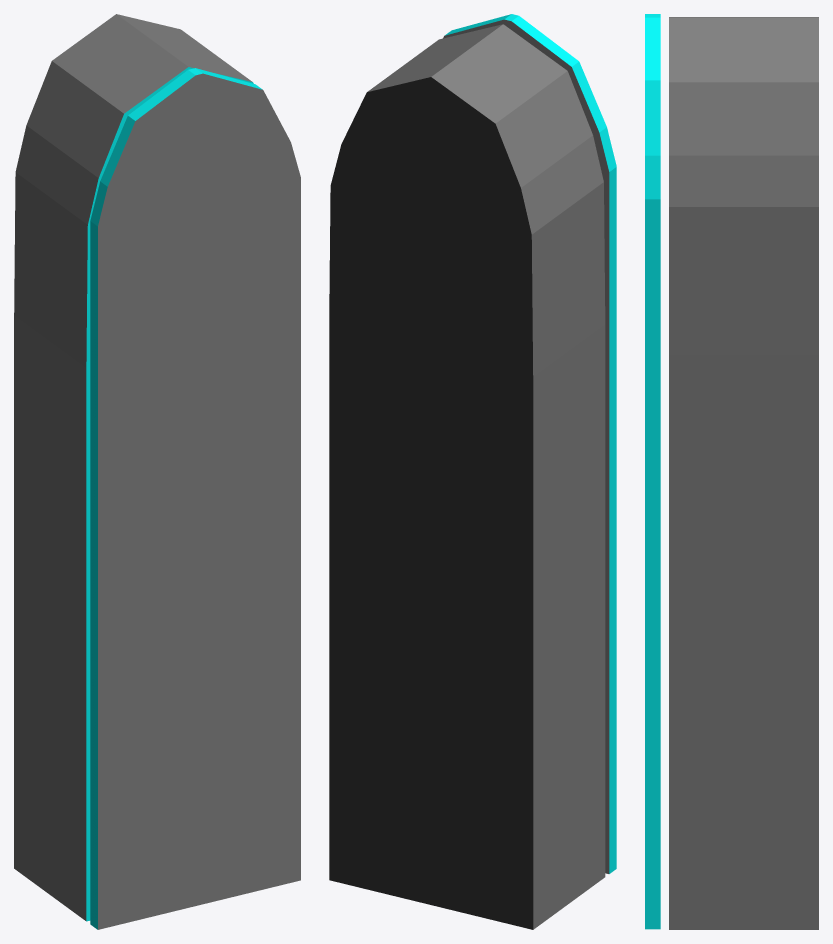
Rendered from taquilla.FBX.
3 views of the same model, side by side, from view 1: azimuth 30°, elevation 25°; view 2: azimuth 150°, elevation 25°; view 3: azimuth 270°, elevation 25° (orthographic). The views are drawn at different scales.
Visible parts, largest first — view 1: Box002, Box001; view 2: Box001, Box002; view 3: Box001, Box002.
Part boxes in pixels (x1,y1,x2,y2): Box002: [90, 68, 300, 929]; Box001: [14, 14, 253, 921]; Box001: [329, 24, 605, 929]; Box002: [443, 14, 616, 873]; Box001: [669, 17, 818, 929]; Box002: [645, 14, 660, 929].
Bounding box in the file's own units: 16.88 × 65.56 × 11.98.
